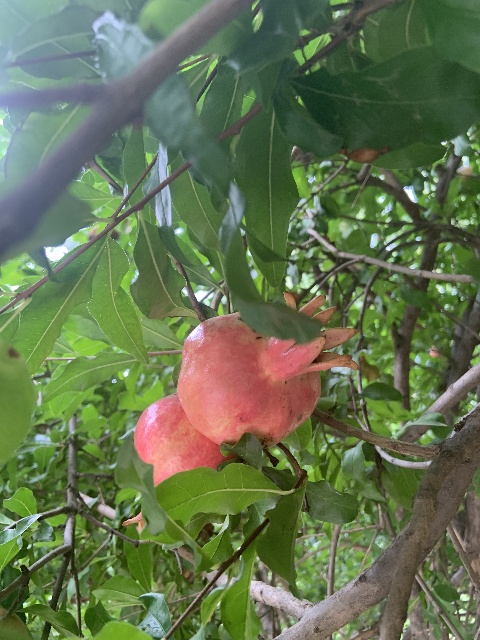ripe: (177, 290, 358, 448), (122, 393, 238, 532)
